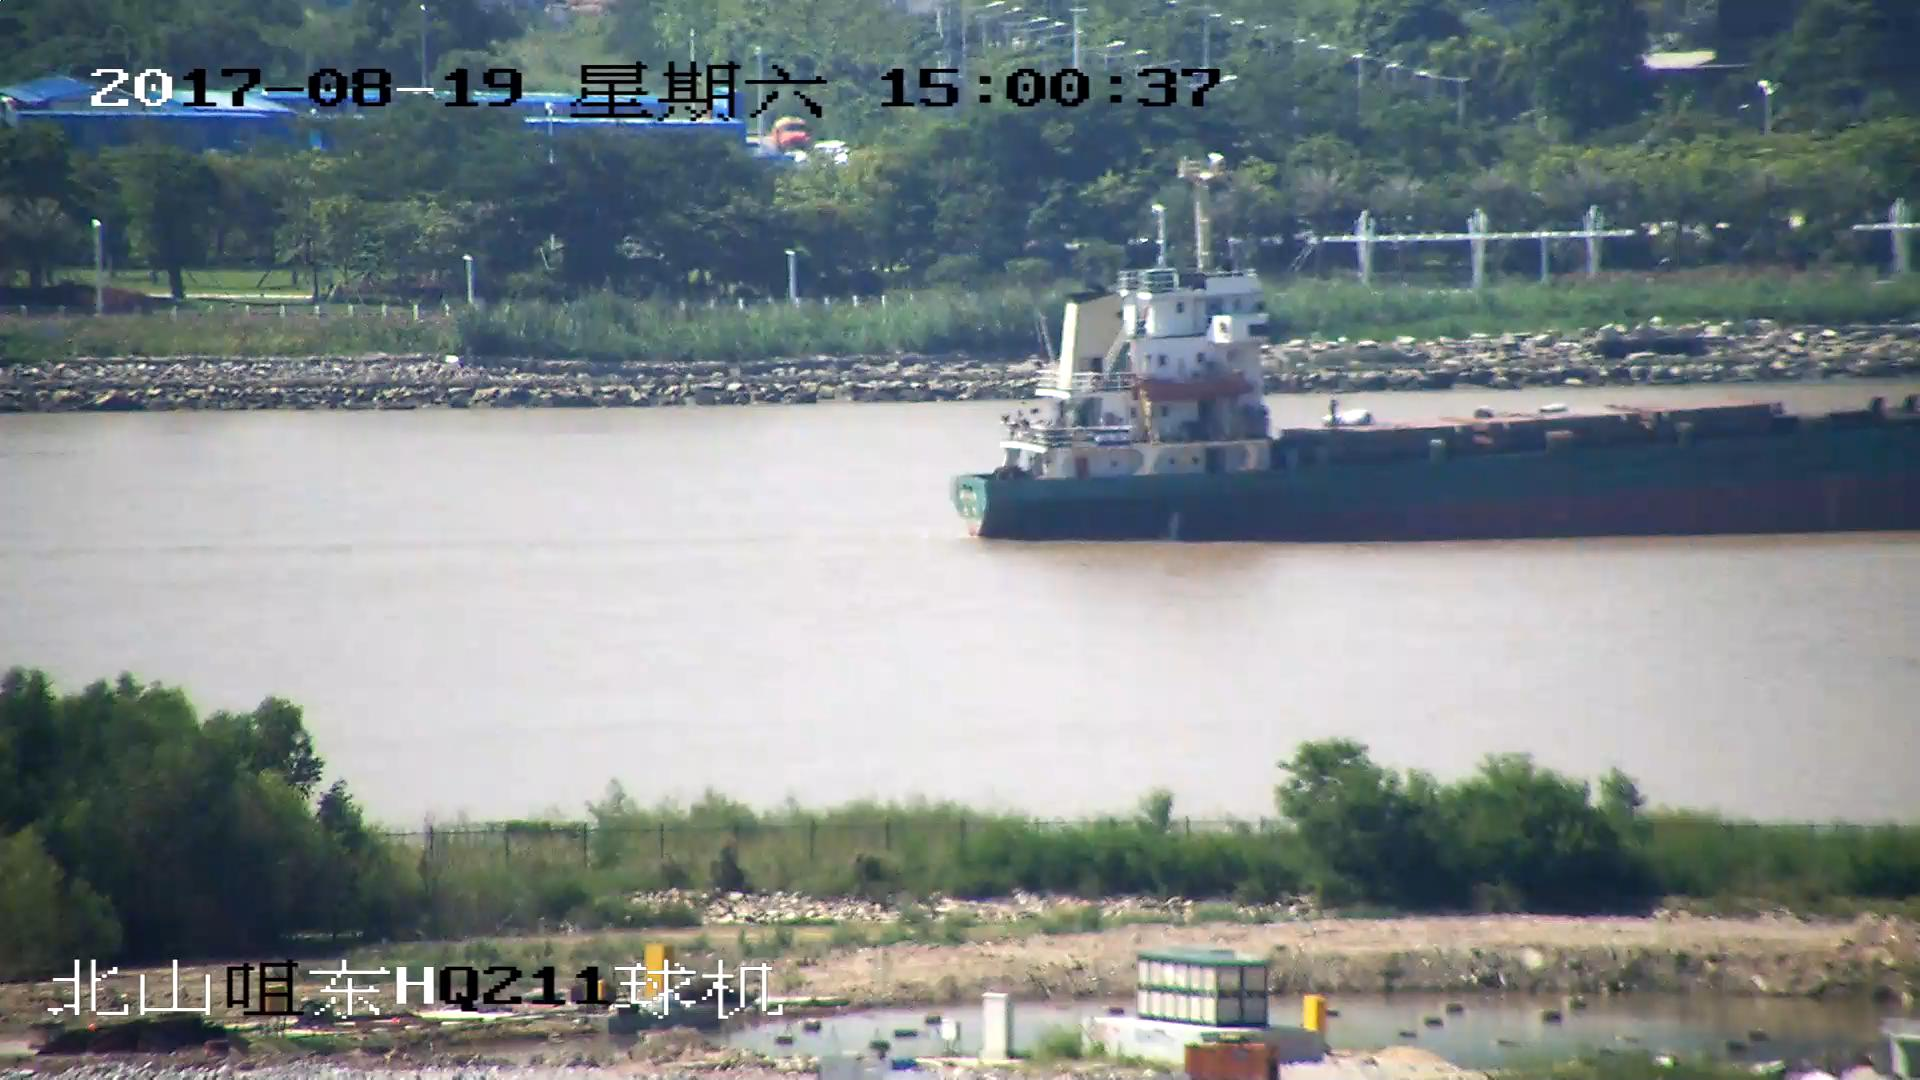general cargo ship: (951, 234, 1920, 540)
